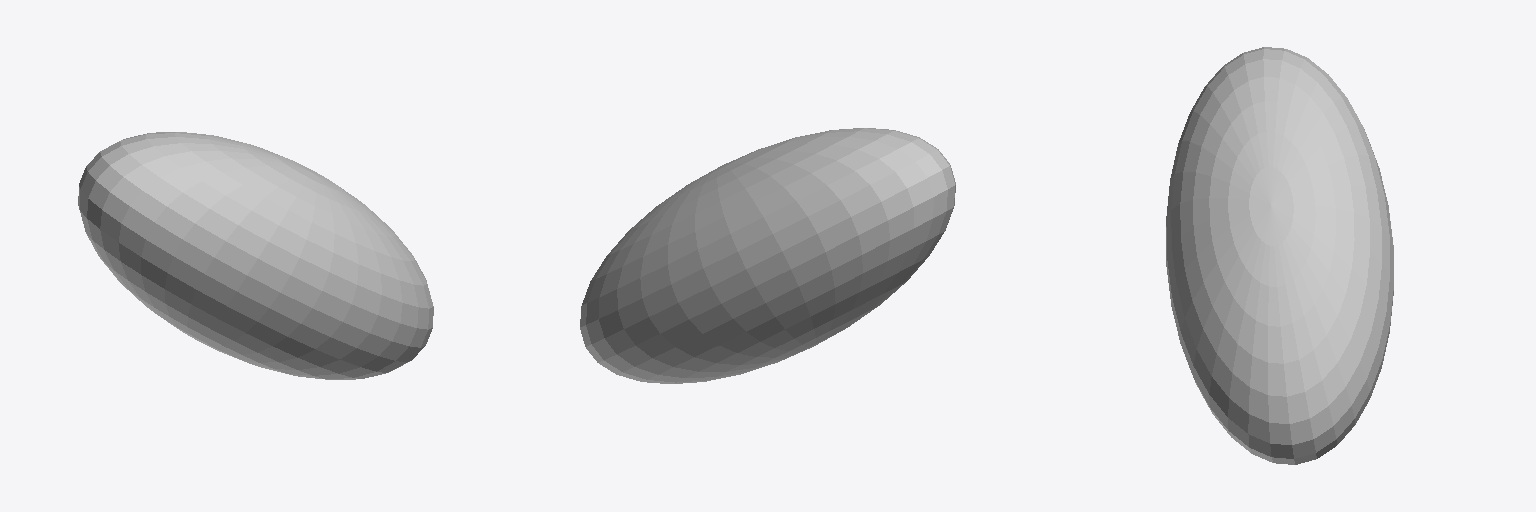
Rendered from Left Foot.obj.
3 renders of one model, left to right at view 1: azimuth 30°, elevation 25°; view 2: azimuth 150°, elevation 25°; view 3: azimuth 270°, elevation 25°, orthographic.
Parts seen in each view (by area): view 1: Left_Foot_Sphere.013; view 2: Left_Foot_Sphere.013; view 3: Left_Foot_Sphere.013.
Boxes of the visible parts, x1=… form: Left_Foot_Sphere.013: x1=78, y1=132, x2=433, y2=379; Left_Foot_Sphere.013: x1=580, y1=128, x2=955, y2=383; Left_Foot_Sphere.013: x1=1166, y1=47, x2=1393, y2=464.
Size of the model in its own units: 1.07 by 0.8383 by 0.6075.